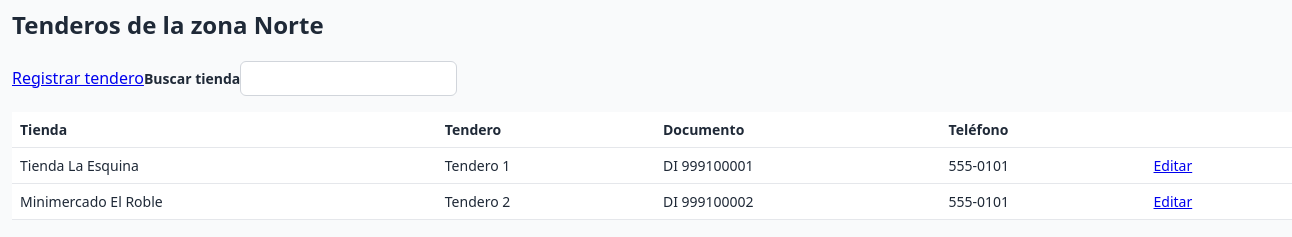
it: Tenderos · Buscar tienda (HU-103) › CA4: si ninguna tienda coincide, muestra «No hay tiendas con ese nombre en tu zona»
This screenshot has width=1292, height=237.
Expected: the text "Tienda La Esquina" is shown, [12,147,437,183]
Expected: the text "No hay tiendas con ese nombre en tu zona" is not shown
Type "pinos" into the search field labelled "Buscar tienda" at (349, 78), box [240,61,457,96]
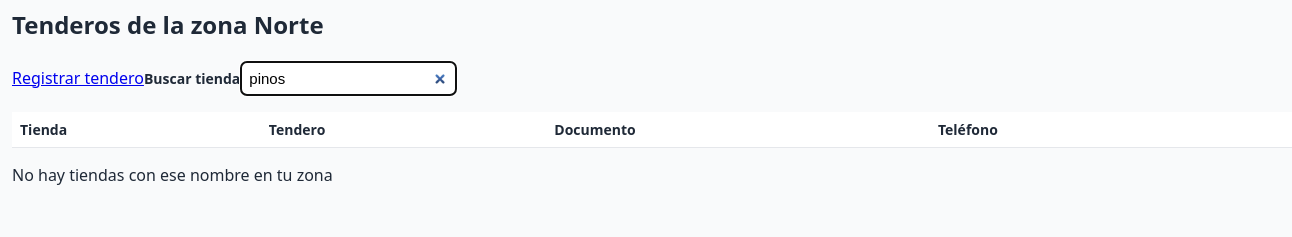
Expected: the text "No hay tiendas con ese nombre en tu zona" is shown, [12,164,333,186]
